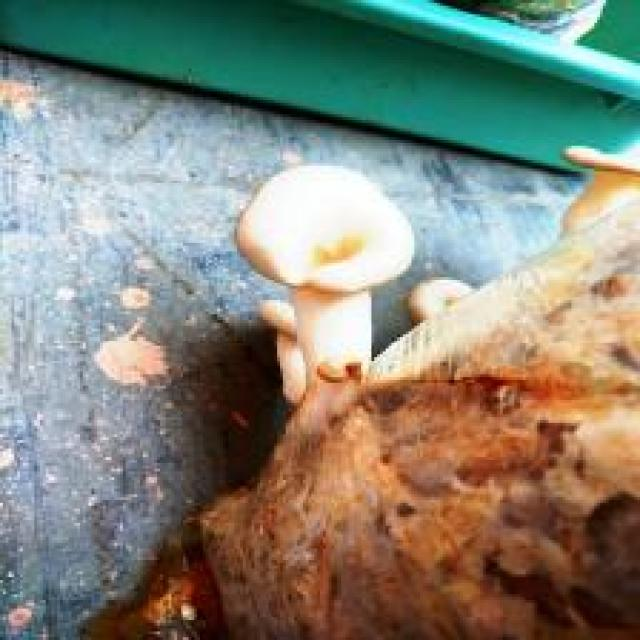field-mushroom: (232, 160, 414, 406)
